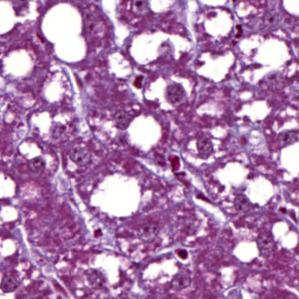steatosis: (37, 4, 90, 63)
